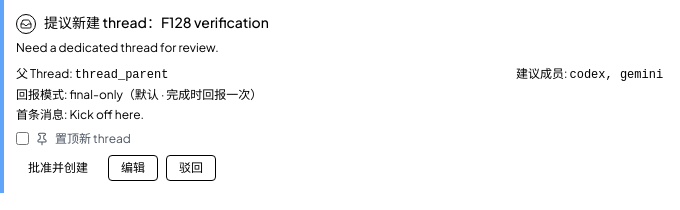
Test: ProposalCard › shows clickable thread link in approved state
The image size is (680, 210).
Click the button "批准并创建": [58, 168] box [16,154,100,180]
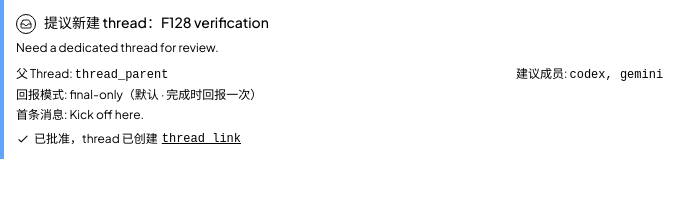
Expected: the button with test id "thread-link" reads "thread_link", [162,130,241,146]
